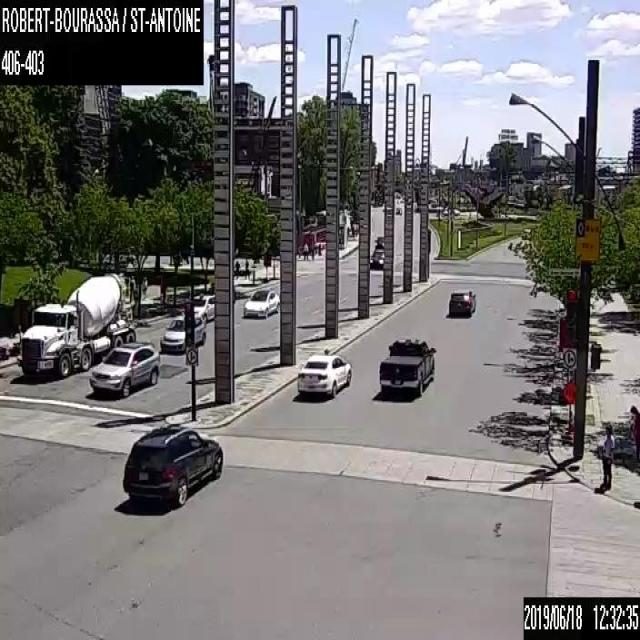construction: (558, 381, 574, 439)
pedestrian: (599, 422, 614, 489), (629, 402, 639, 462), (158, 271, 167, 304), (128, 272, 136, 305), (141, 276, 147, 300), (244, 258, 250, 278), (234, 259, 240, 278), (303, 242, 308, 262)
vehicle: (18, 272, 135, 375), (121, 420, 223, 503), (90, 341, 160, 397), (378, 336, 436, 395), (295, 352, 352, 397), (160, 313, 206, 353), (243, 287, 278, 316), (448, 287, 475, 317), (192, 292, 215, 321), (369, 249, 384, 269), (374, 235, 384, 248), (394, 204, 402, 215)
